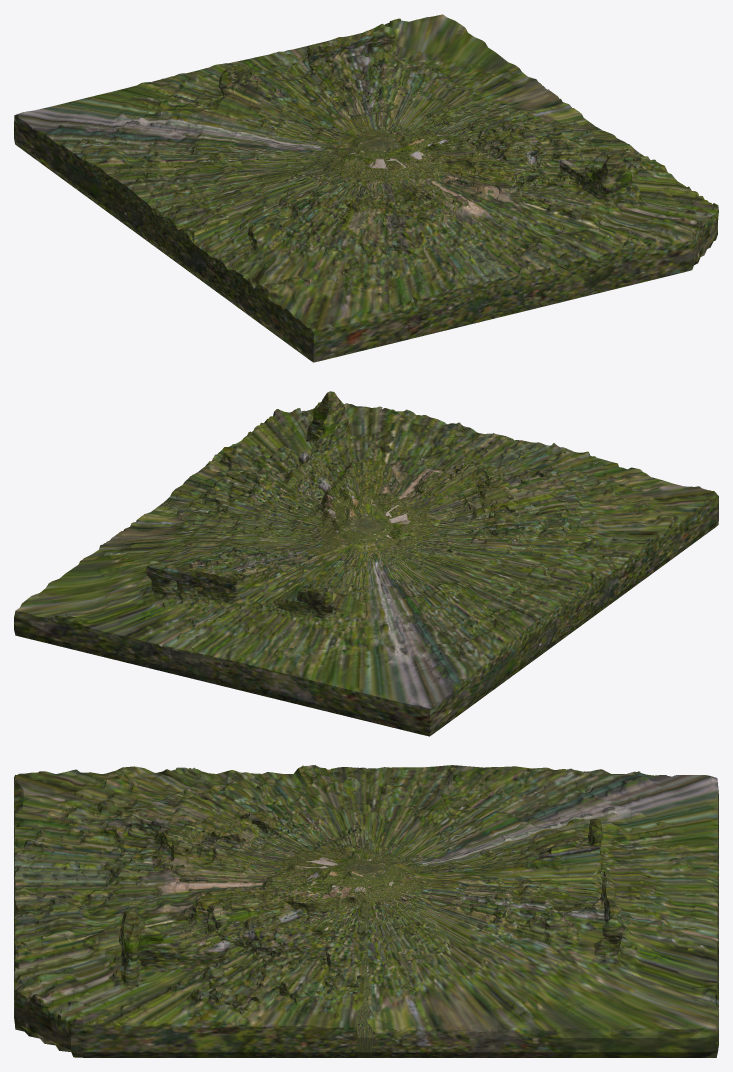
File: gassons_ruin.fbx
The picture shows the model from 3 angles, top to bottom: view 1: azimuth 30°, elevation 25°; view 2: azimuth 150°, elevation 25°; view 3: azimuth 270°, elevation 25°; orthographic projection. The views are drawn at different scales.
Visible parts, largest first — view 1: Volume_Mesher; view 2: Volume_Mesher; view 3: Volume_Mesher.
Boxes of the visible parts, bbox=[...] form: Volume_Mesher: bbox=[14, 14, 718, 362]; Volume_Mesher: bbox=[14, 391, 718, 736]; Volume_Mesher: bbox=[14, 765, 718, 1057].
Size of the model in its own units: 2965 by 573 by 3554.
1 material, 1 textured.
